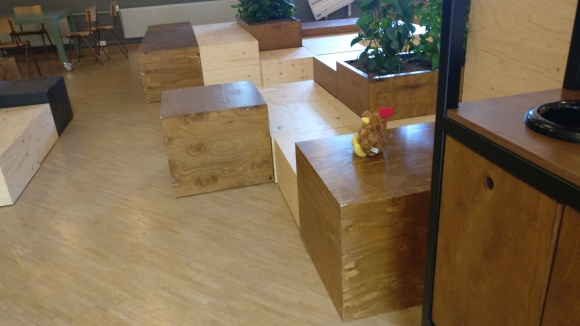chicken: (351, 105, 394, 159)
